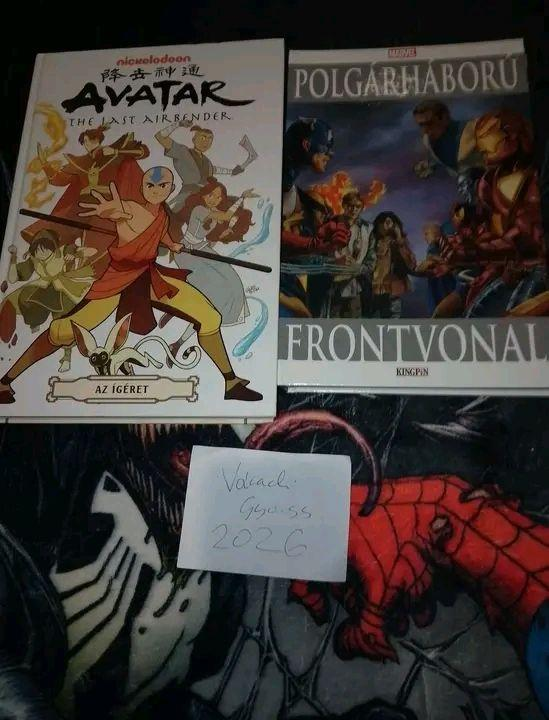comic: (0, 39, 284, 421), (279, 39, 548, 394)
